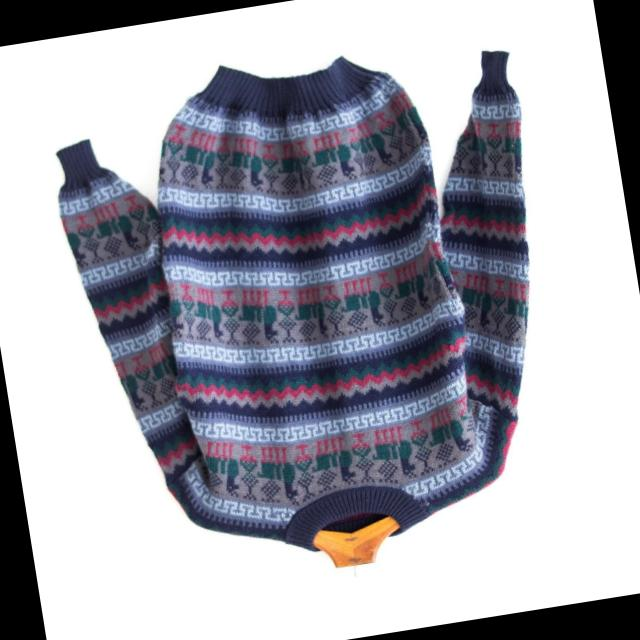Chompa: (40, 21, 588, 604)
